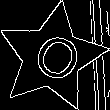O_SW: (20, 25, 83, 90)
